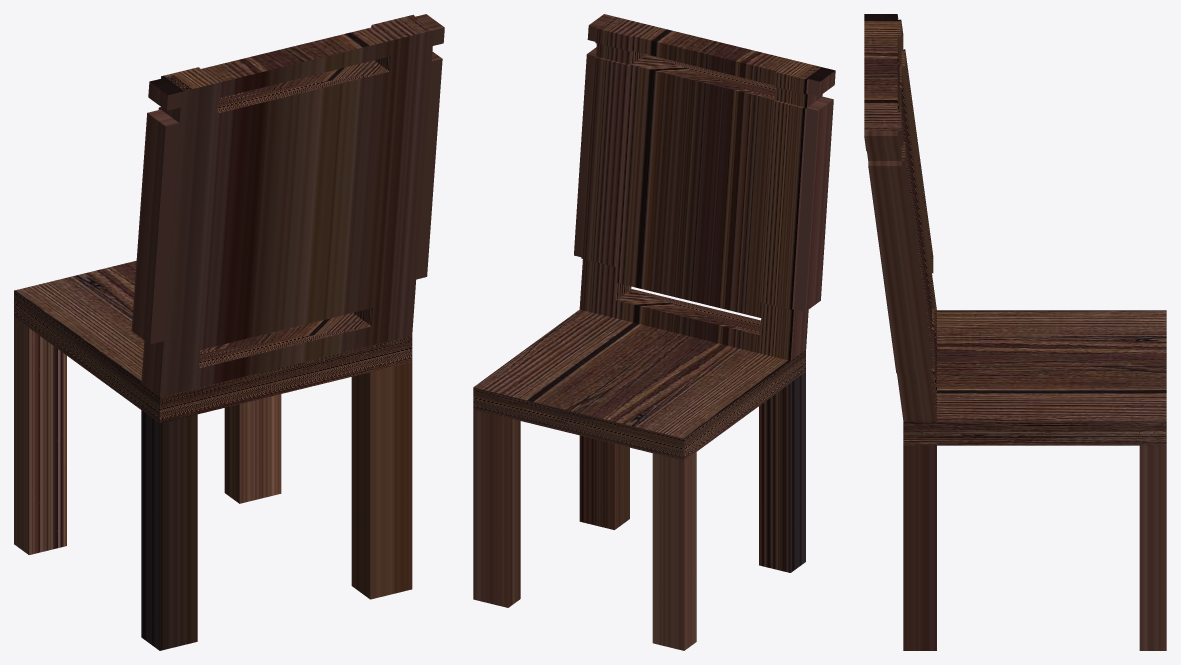
The model's file is kursi1.glb.
The picture shows the model from 3 angles, left to right: view 1: azimuth 30°, elevation 25°; view 2: azimuth 150°, elevation 25°; view 3: azimuth 270°, elevation 25°; orthographic projection. The views are drawn at different scales.
Parts seen in each view (by area): view 1: Cube; view 2: Cube; view 3: Cube.
Boxes of the visible parts, bbox=[...] form: Cube: bbox=[14, 14, 444, 650]; Cube: bbox=[473, 14, 835, 650]; Cube: bbox=[864, 14, 1166, 650].
Size of the model in its own units: 0.8865 by 1.76 by 0.9284.
Materials: 1 (1 with a texture image).
